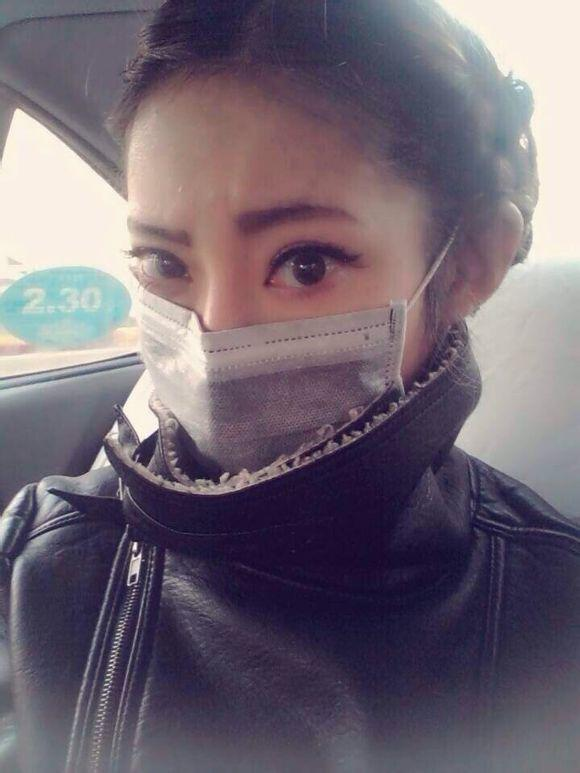OK: (135, 197, 422, 468)
